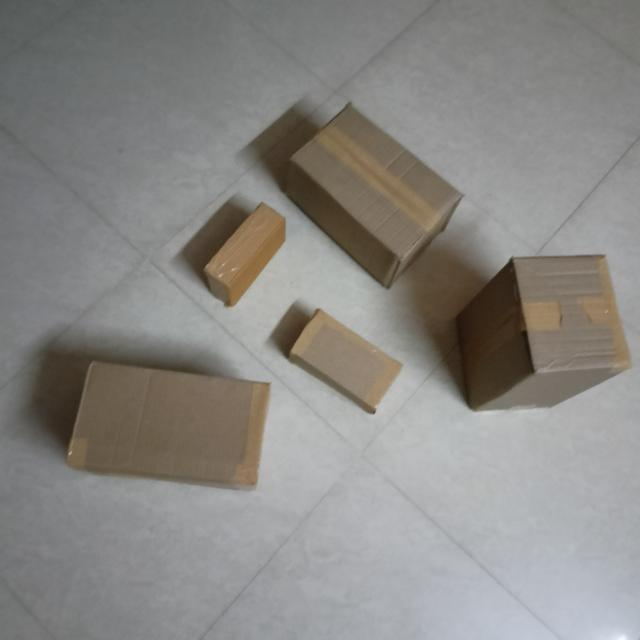box: (72, 359, 273, 479), (297, 102, 455, 254), (519, 255, 631, 364), (296, 307, 403, 406), (210, 198, 283, 279)
